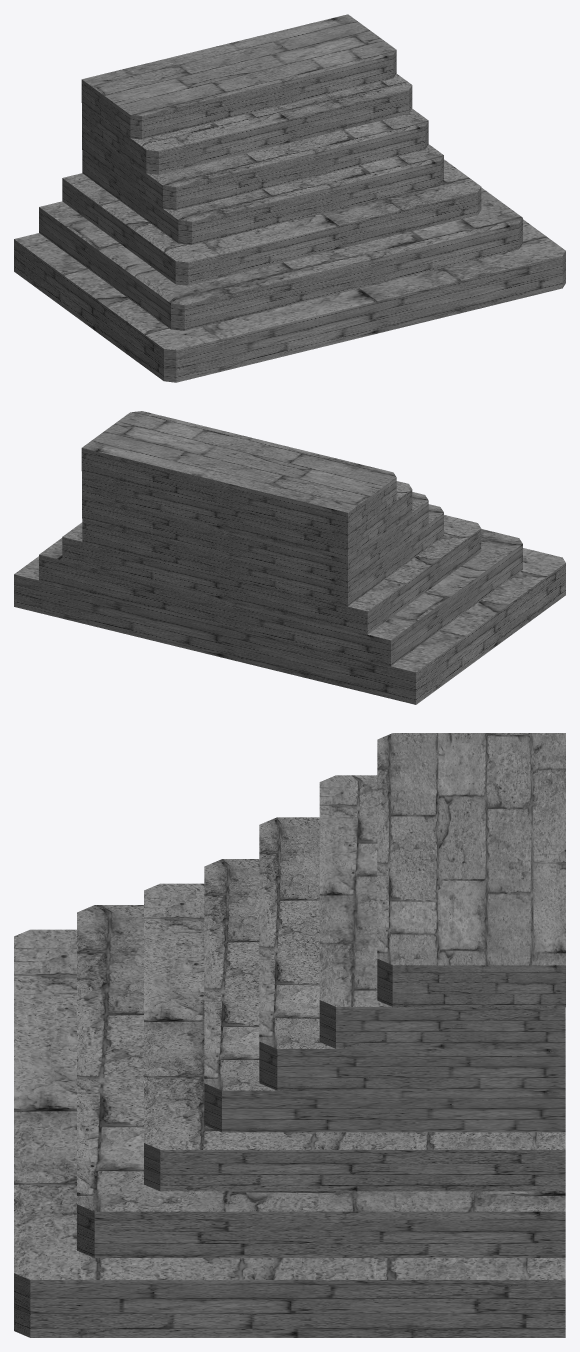
Rendered from stairs.fbx.
The picture shows the model from 3 angles, top to bottom: view 1: azimuth 30°, elevation 25°; view 2: azimuth 150°, elevation 25°; view 3: azimuth 270°, elevation 25°; orthographic projection. The views are drawn at different scales.
Parts seen in each view (by area): view 1: Cube_7, Cube_2, Cube_3, Cube_1, Cube_5, Cube_6, Cube_4; view 2: Cube_7, Cube_3, Cube_2, Cube_1, Cube_6, Cube_5, Cube_4; view 3: Cube_7, Cube_3, Cube_2, Cube_1, Cube_6, Cube_5, Cube_4.
Part boxes in pixels (x1,y1,x2,y2): Cube_7: [14, 219, 565, 382]; Cube_2: [39, 187, 522, 330]; Cube_3: [81, 14, 396, 139]; Cube_1: [62, 159, 481, 285]; Cube_5: [82, 108, 428, 210]; Cube_6: [82, 144, 443, 244]; Cube_4: [82, 73, 412, 174]; Cube_7: [14, 548, 565, 704]; Cube_3: [81, 411, 396, 536]; Cube_2: [39, 529, 522, 666]; Cube_1: [62, 515, 481, 634]; Cube_6: [82, 504, 443, 606]; Cube_5: [82, 492, 428, 582]; Cube_4: [82, 471, 412, 559]; Cube_7: [14, 929, 565, 1337]; Cube_3: [377, 733, 565, 1007]; Cube_2: [77, 905, 565, 1257]; Cube_1: [144, 883, 565, 1191]; Cube_6: [204, 859, 565, 1132]; Cube_5: [259, 817, 565, 1090]; Cube_4: [319, 775, 565, 1048].
Bounding box in the file's own units: 341 × 142 × 227.
2 materials, 2 textured.
